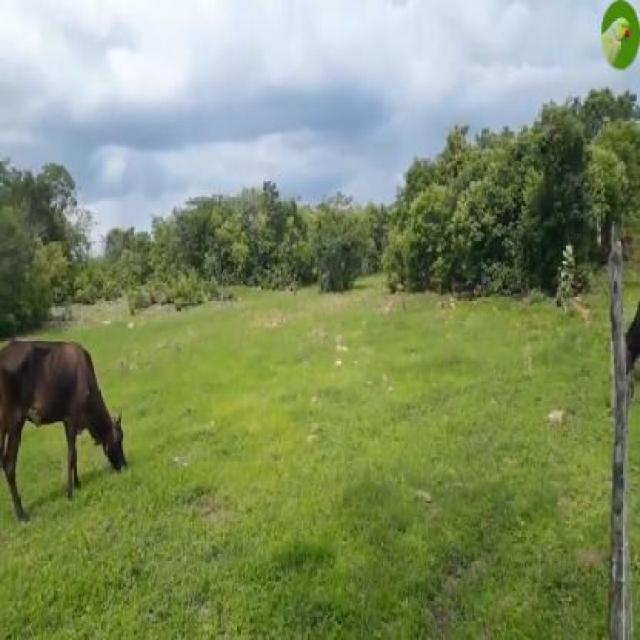Cow: (0, 340, 128, 518)
